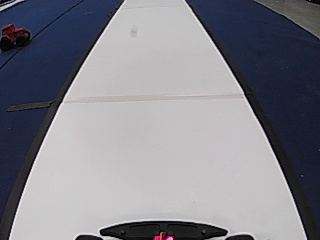tractor: (0, 23, 30, 50)
